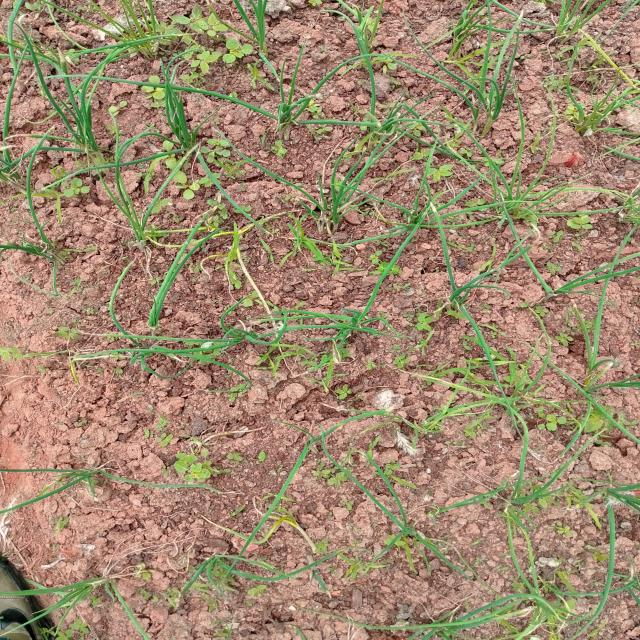Spring Onion: (125, 91, 240, 180), (450, 353, 540, 434), (185, 531, 282, 600), (262, 80, 347, 152), (369, 505, 461, 571), (35, 102, 110, 168), (502, 464, 570, 535), (368, 105, 462, 156), (96, 4, 176, 63), (481, 172, 567, 226), (3, 219, 81, 275), (394, 186, 459, 253), (26, 459, 116, 507), (113, 198, 193, 250), (313, 299, 391, 352), (460, 73, 515, 147), (160, 311, 232, 367), (436, 6, 503, 66), (574, 94, 638, 154), (518, 575, 583, 634), (320, 182, 378, 248), (392, 600, 484, 640), (224, 15, 296, 66), (532, 0, 604, 49), (340, 8, 395, 71), (294, 417, 362, 465), (594, 468, 640, 538), (567, 255, 640, 298), (439, 266, 499, 314), (574, 328, 620, 384), (0, 122, 32, 196)
